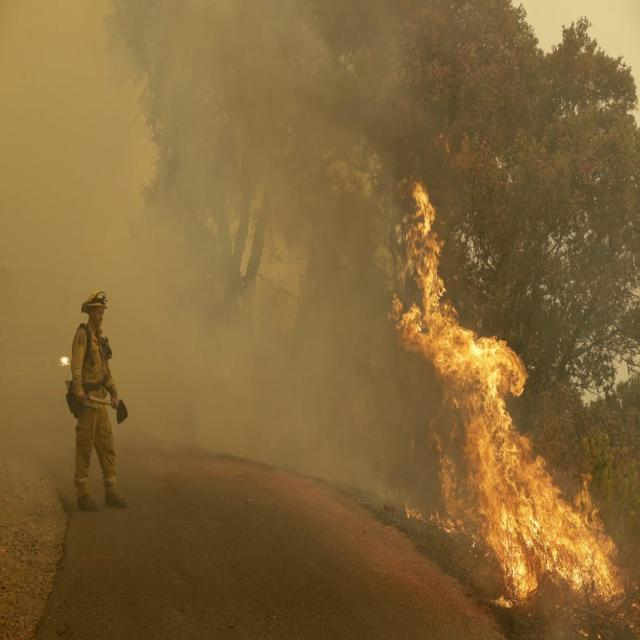fire: (440, 334, 524, 486), (489, 499, 618, 596), (401, 192, 452, 329)
